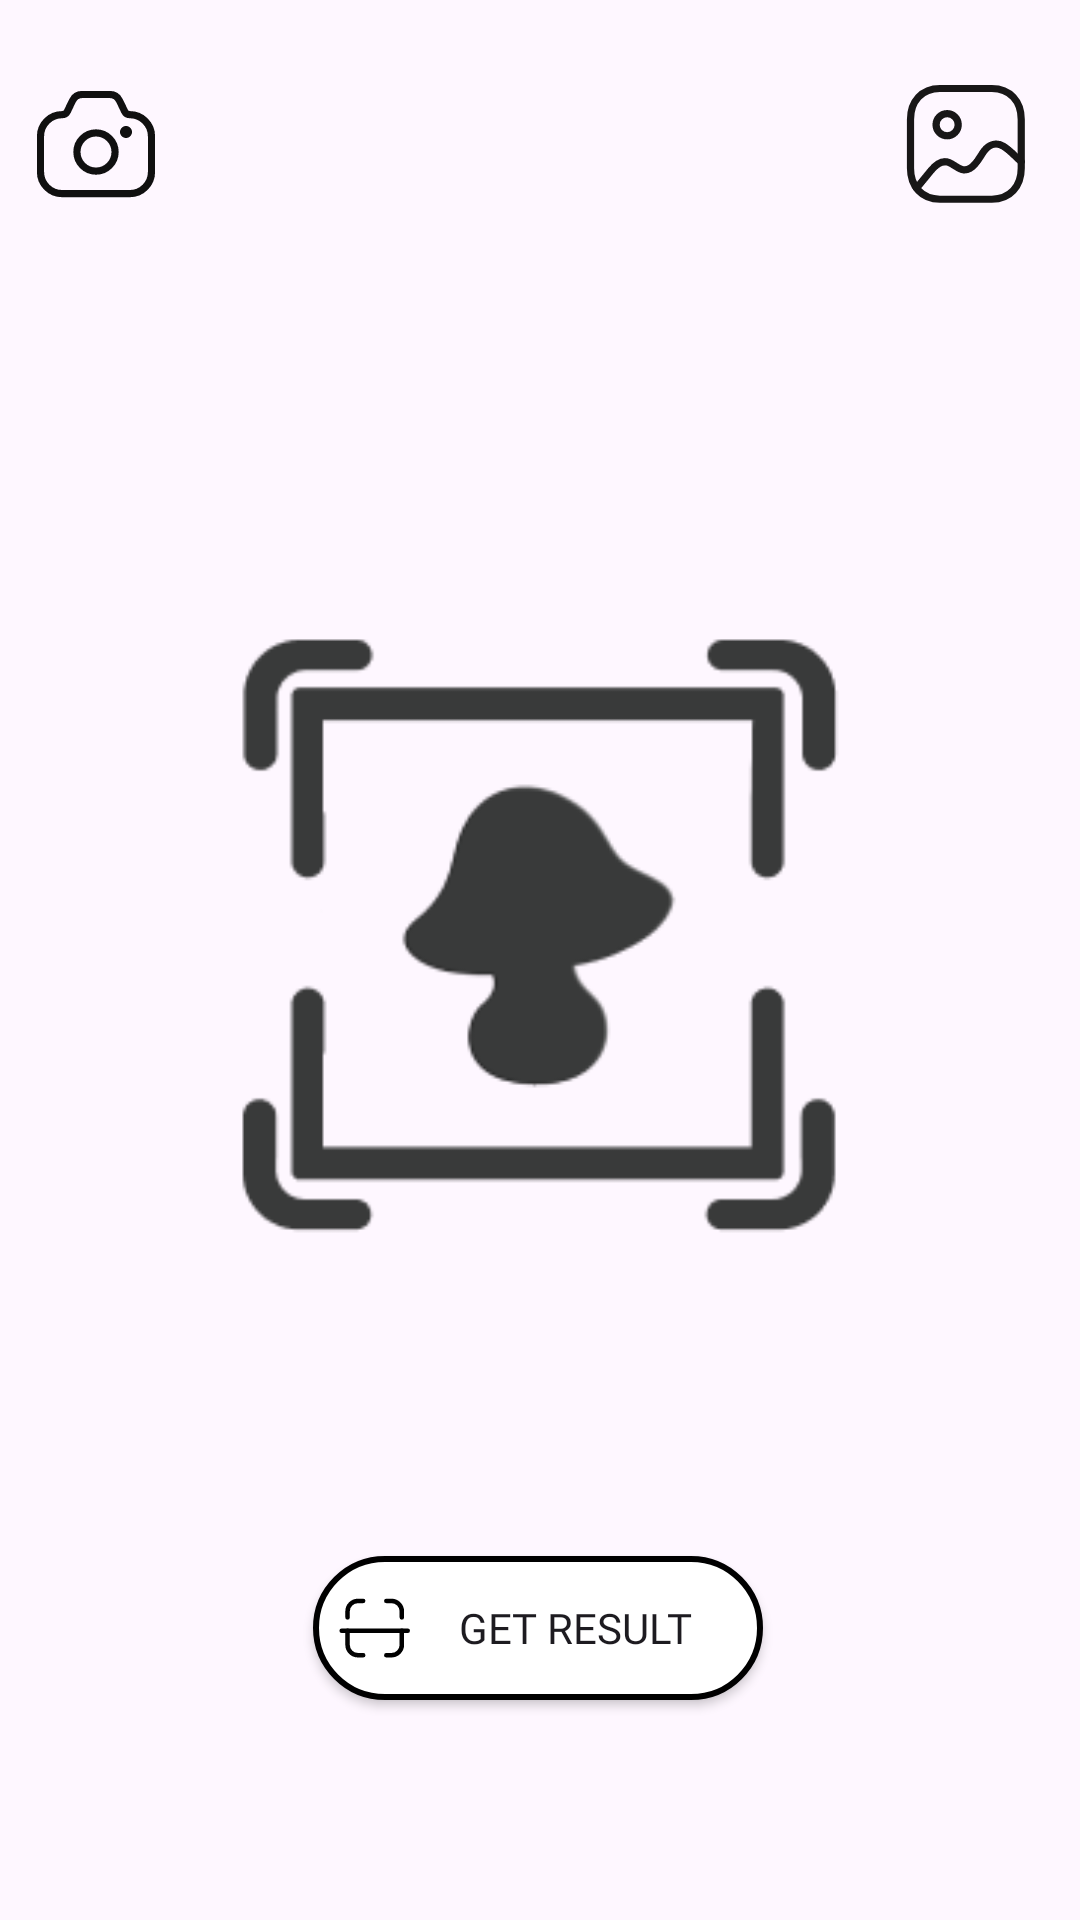

Where icons sit on this 1080px×1920px app screen, as [x1, y1, x2, y2]:
Galeri: [907, 85, 1025, 203]
Kamera: [37, 91, 155, 198]
